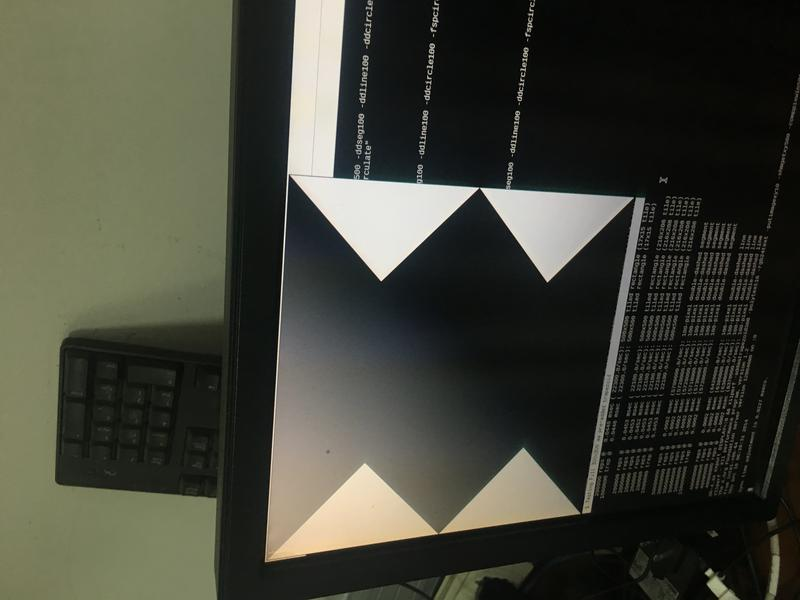xrandr_pass: (240, 153, 652, 572)
